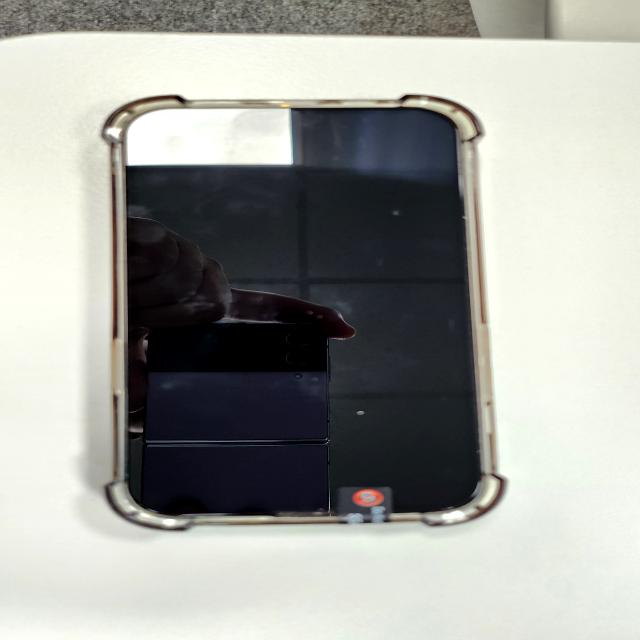phone: (99, 94, 509, 533)
sticker: (336, 486, 395, 526)
